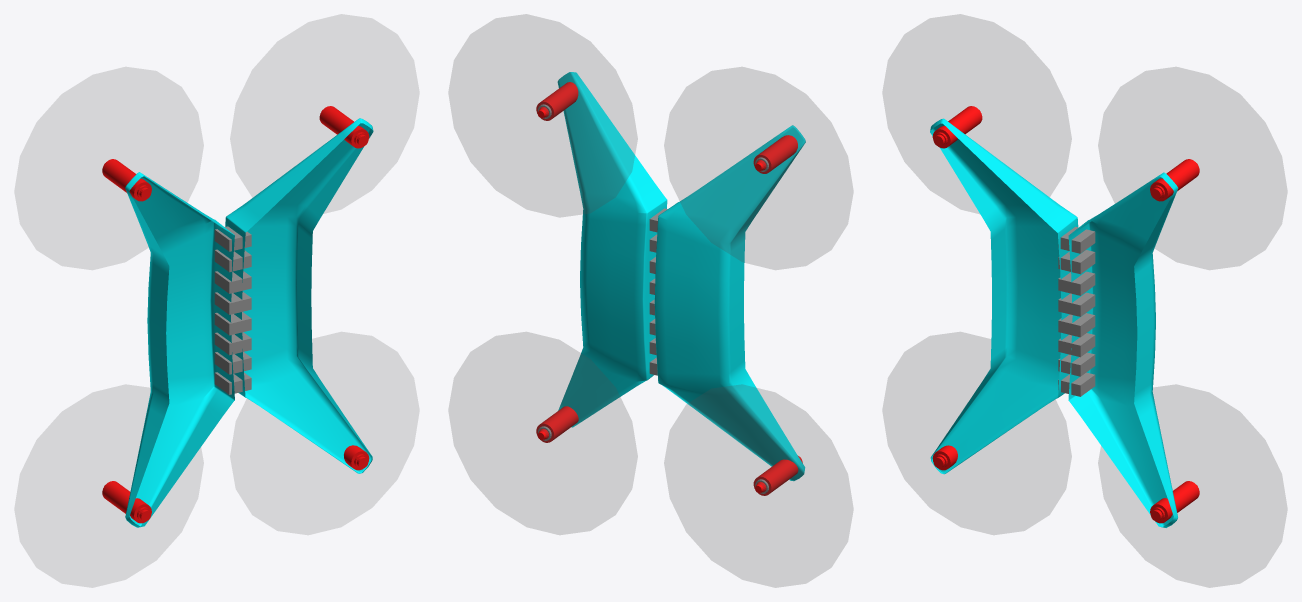
File: Drone_v4.FBX
The picture shows the model from 3 angles, left to right: view 1: azimuth 30°, elevation 25°; view 2: azimuth 150°, elevation 25°; view 3: azimuth 330°, elevation 25°; orthographic projection.
Visible parts, largest first — view 1: Drone_v4; view 2: Drone_v4; view 3: Drone_v4.
Boxes of the visible parts, bbox=[...] form: Drone_v4: bbox=[14, 14, 419, 587]; Drone_v4: bbox=[448, 14, 853, 587]; Drone_v4: bbox=[882, 14, 1287, 587].
Size of the model in its own units: 113 by 136 by 18.93.
